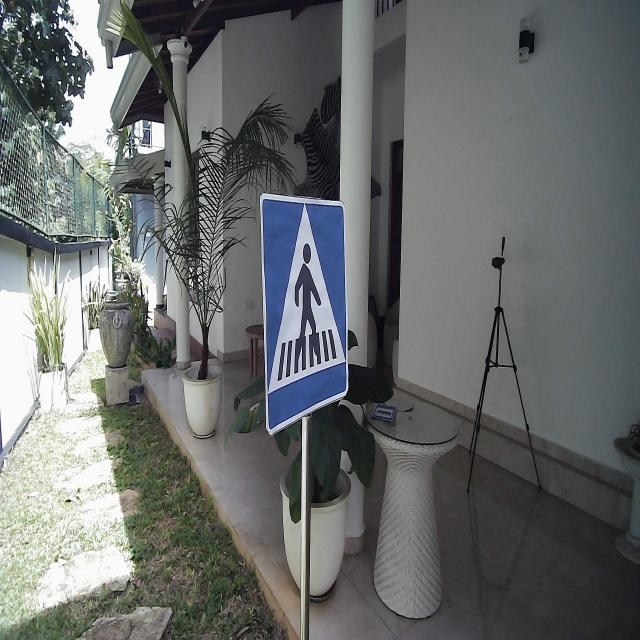crosswalk_sign: (258, 191, 350, 439)
